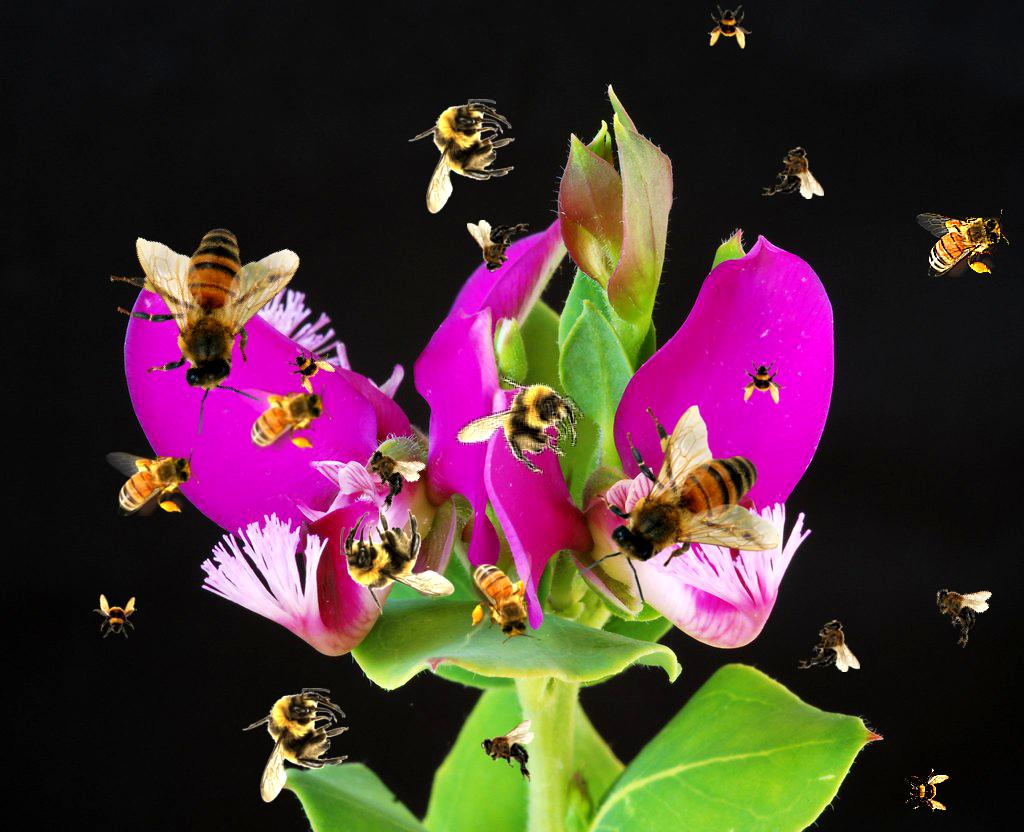Bee: (65, 170, 348, 454), (578, 405, 782, 604), (441, 348, 598, 505), (242, 688, 349, 803), (408, 99, 515, 214), (340, 508, 455, 615), (348, 433, 429, 515), (916, 209, 1009, 277), (468, 551, 536, 644), (106, 448, 199, 516), (238, 384, 331, 452), (919, 570, 996, 650), (278, 335, 342, 399), (481, 720, 534, 782), (762, 146, 824, 199), (798, 619, 860, 672), (467, 220, 529, 273), (708, 5, 752, 49), (905, 768, 949, 812), (742, 360, 786, 404), (93, 594, 137, 638)
